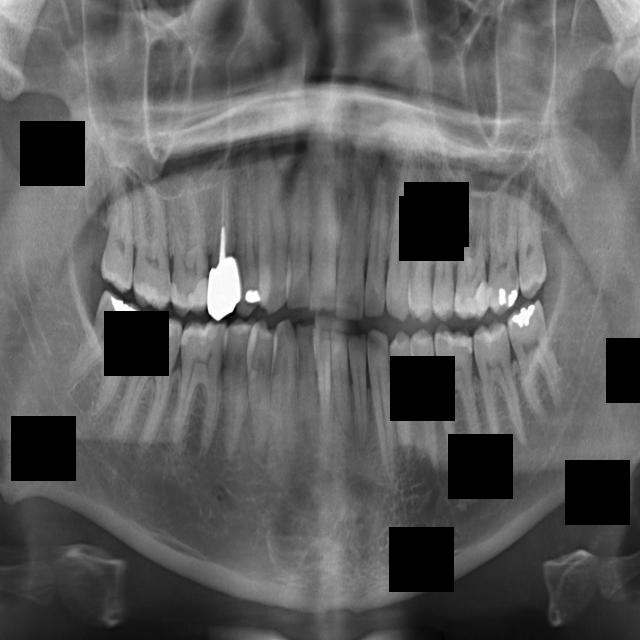3M ESPE Implant: (99, 178, 139, 294)
AGS Medikal Implant: (468, 318, 530, 453)
AMerOss Implant: (431, 320, 485, 458)
Amalgam filling: (130, 174, 170, 313)
Anthogyr Implant: (412, 328, 441, 469)
Bicon Implant: (390, 332, 413, 461)
BioHorizons Implant: (366, 328, 398, 487)
BioLife Implant: (348, 333, 371, 445)
Biomet 3i Implant: (329, 330, 354, 442)
Blue Sky Bio Implant: (316, 329, 332, 427)
Camlog Implant: (296, 321, 319, 451)
Caries: (364, 169, 390, 318)
Composite filling: (272, 320, 299, 463)
Cowellmedi Implant: (244, 320, 277, 461)
Crown: (214, 317, 253, 458)
DENTSPLY Implant: (166, 185, 210, 316)
Dentatus Implant: (172, 318, 227, 451)
Dentis Implant: (112, 311, 187, 450)
Dentium Implant: (53, 288, 153, 425)
Euroteknika Implant: (208, 167, 238, 319)
Filling: (234, 171, 261, 315)
Frontier Implant: (256, 139, 291, 314)
Hiossen Implant: (385, 139, 415, 321)
Implant: (308, 165, 342, 312)
Implant Direct: (287, 172, 311, 310)
Keystone Dental Implant: (335, 174, 369, 321)
MIS Implant: (411, 204, 433, 321)
Mandible: (432, 183, 456, 321)
Maxilla: (454, 184, 493, 322)
Megagen Implant: (486, 188, 520, 314)
Neodent Implant: (516, 184, 547, 297)
Neoss Implant: (503, 296, 570, 425)
